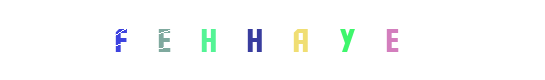A: (232, 0, 312, 80)
E: (135, 0, 215, 80), (341, 0, 421, 80)
F: (80, 0, 160, 80)
H: (215, 0, 295, 80), (225, 0, 305, 80)
Y: (261, 0, 341, 80)
